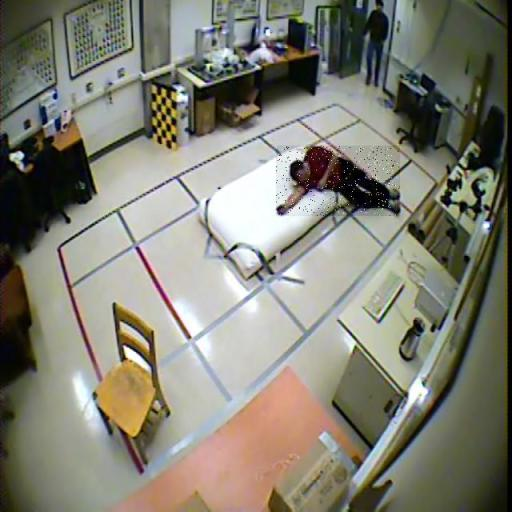Fall: (276, 146, 400, 217)
